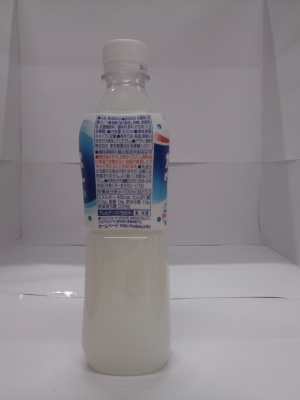calpis: (70, 30, 189, 388)
